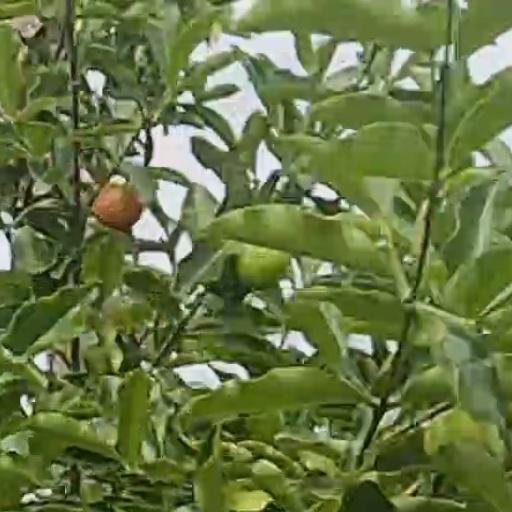acerola: (237, 247, 290, 288), (91, 185, 141, 226)
